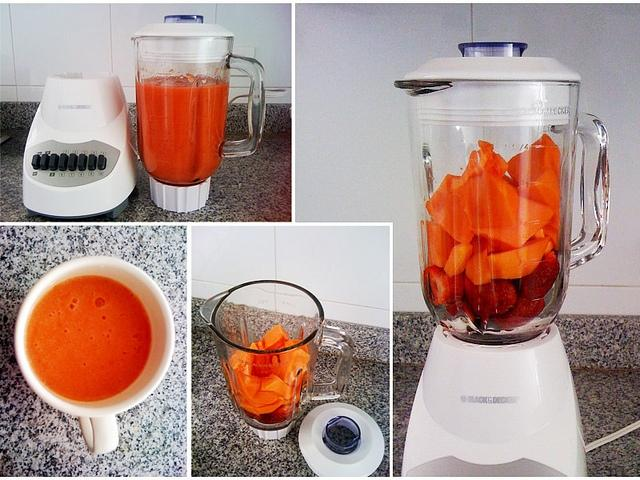strawberry: (464, 273, 517, 331), (492, 291, 544, 330), (520, 252, 560, 300), (446, 298, 476, 324), (446, 274, 464, 302), (272, 406, 287, 422), (259, 416, 274, 424)
